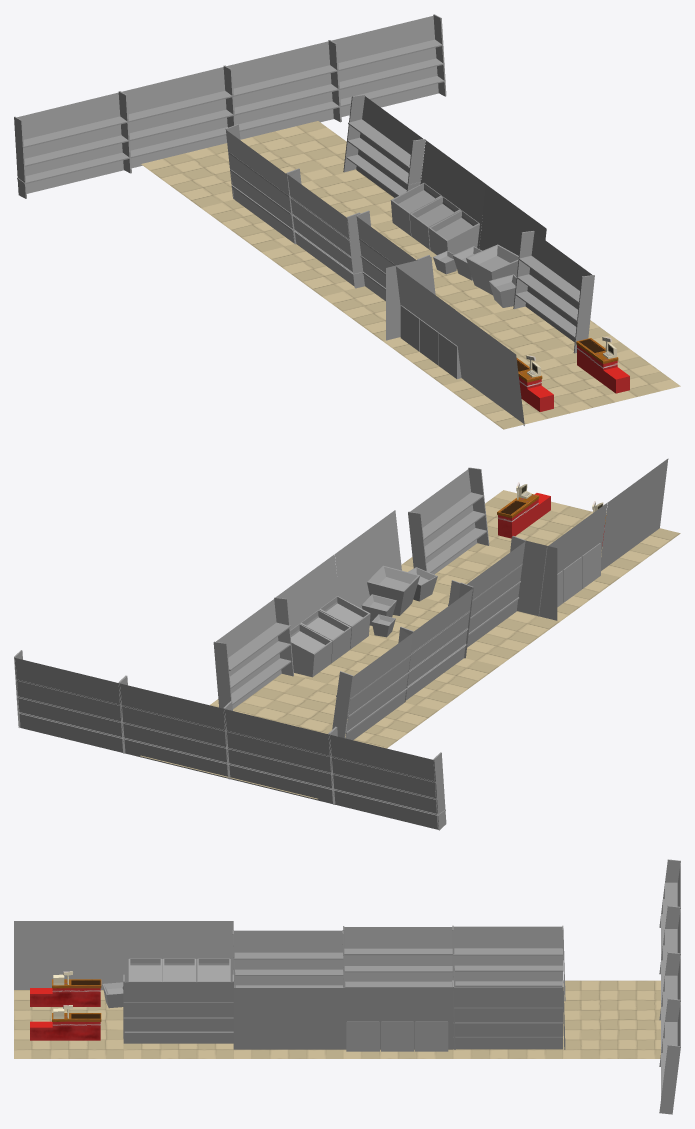
The model's file is environment.fbx.
3 renders of one model, top to bottom at view 1: azimuth 30°, elevation 25°; view 2: azimuth 150°, elevation 25°; view 3: azimuth 270°, elevation 25°, orthographic. The views are drawn at different scales.
Parts seen in each view (by area): view 1: floor6, floor2, wall3_ncl1_5, wall3_ncl1_3, wall3_ncl1_2, wall3_ncl1_4, floor5, floor, wall_ncl1_2, floor3, wall3_ncl1_1, wall_ncl1_3 (+42 smaller); view 2: wall3_ncl1_5, wall3_ncl1_4, wall3_ncl1_2, wall3_ncl1_3, floor5, floor3, wall_ncl1_2, floor2, floor4, wall3_ncl1_1, wall_ncl1_3, wall4 (+28 smaller); view 3: floor6, wall4, wall3, wall_ncl1_2, wall1, wall_ncl1_3, wall, wall_ncl1_1, wall3_ncl1_1, floor2, wall_ncl1_4, floor (+21 smaller).
Boxes of the visible parts, box(x1,y1,x2,y2) form: floor6: box(141, 121, 356, 207); floor2: box(443, 342, 680, 429); wall3_ncl1_5: box(17, 92, 123, 193); wall3_ncl1_3: box(122, 67, 227, 168); wall3_ncl1_2: box(227, 41, 333, 139); wall3_ncl1_4: box(332, 15, 438, 116); floor5: box(201, 170, 393, 251); floor: box(383, 306, 619, 385); wall_ncl1_2: box(455, 310, 524, 425); floor3: box(322, 268, 513, 340); wall3_ncl1_1: box(287, 174, 354, 286); wall_ncl1_3: box(226, 130, 294, 243); wall3_ncl1_5: box(329, 734, 438, 829); wall3_ncl1_4: box(14, 658, 123, 752); wall3_ncl1_2: box(119, 683, 228, 778); wall3_ncl1_3: box(224, 709, 333, 803); floor5: box(210, 674, 438, 748); floor3: box(369, 591, 559, 666); wall_ncl1_2: box(601, 458, 668, 570); floor2: box(485, 490, 680, 577); floor4: box(294, 634, 498, 710); wall3_ncl1_1: box(405, 588, 473, 700); wall_ncl1_3: box(345, 633, 413, 740); wall4: box(335, 510, 401, 608); floor6: box(563, 980, 660, 1058); wall4: box(233, 988, 343, 1049); wall3: box(123, 982, 233, 1043); wall_ncl1_2: box(14, 921, 123, 989); wall1: box(453, 988, 562, 1049); wall_ncl1_3: box(453, 926, 562, 987); wall: box(234, 930, 342, 985); wall_ncl1_1: box(123, 921, 233, 982); wall3_ncl1_1: box(344, 927, 452, 987); floor2: box(14, 990, 123, 1058); wall_ncl1_4: box(343, 988, 453, 1049); floor: box(123, 1043, 233, 1058).
Size of the model in its own units: 40.13 by 7.14 by 60.73.
